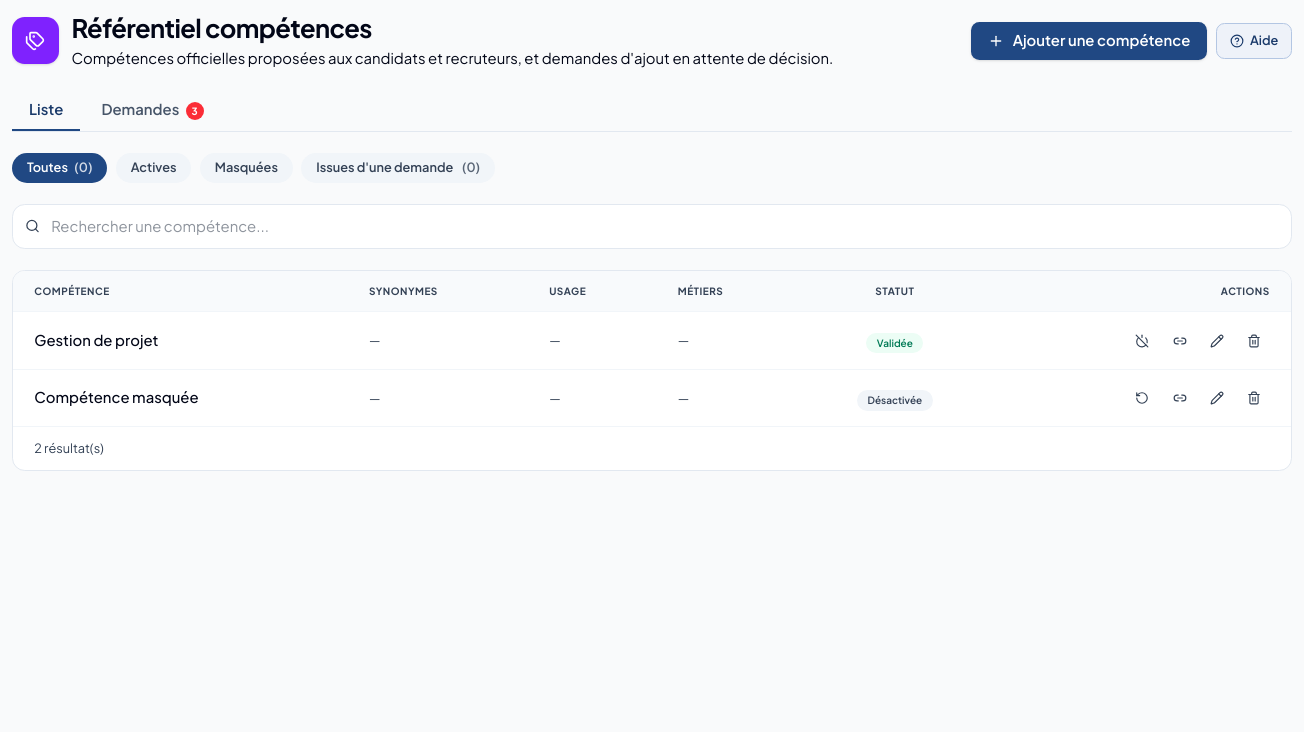
Test: 🏷️ UI & Logique - Composant <AdminCompetences /> › 🟢 HP9 : L'onglet Demandes charge les demandes de compétences, avec leur badge ; plus de bouton « Détecter »
The width and height of the screenshot is (1304, 732).
Expected: the text "Gestion de projet" is shown, left=34, top=331, right=158, bottom=349
What coordinates should you click on to do the following:
click the tab "Demandes 3"
I would click on:
 (153, 111)
Its box is left=84, top=91, right=221, bottom=131.
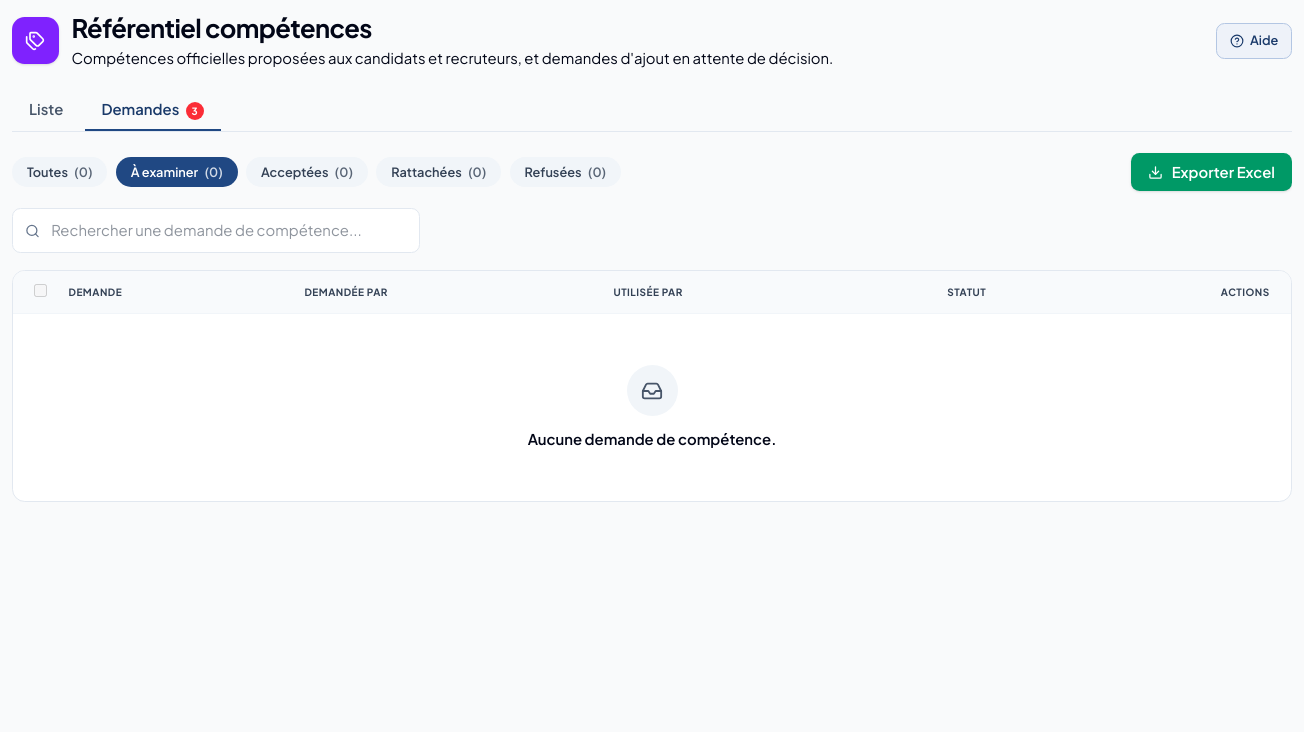
Now the text "Aucune demande de compétence." is shown, box left=528, top=429, right=776, bottom=450
Now the text "Gestion de projet" is gone
